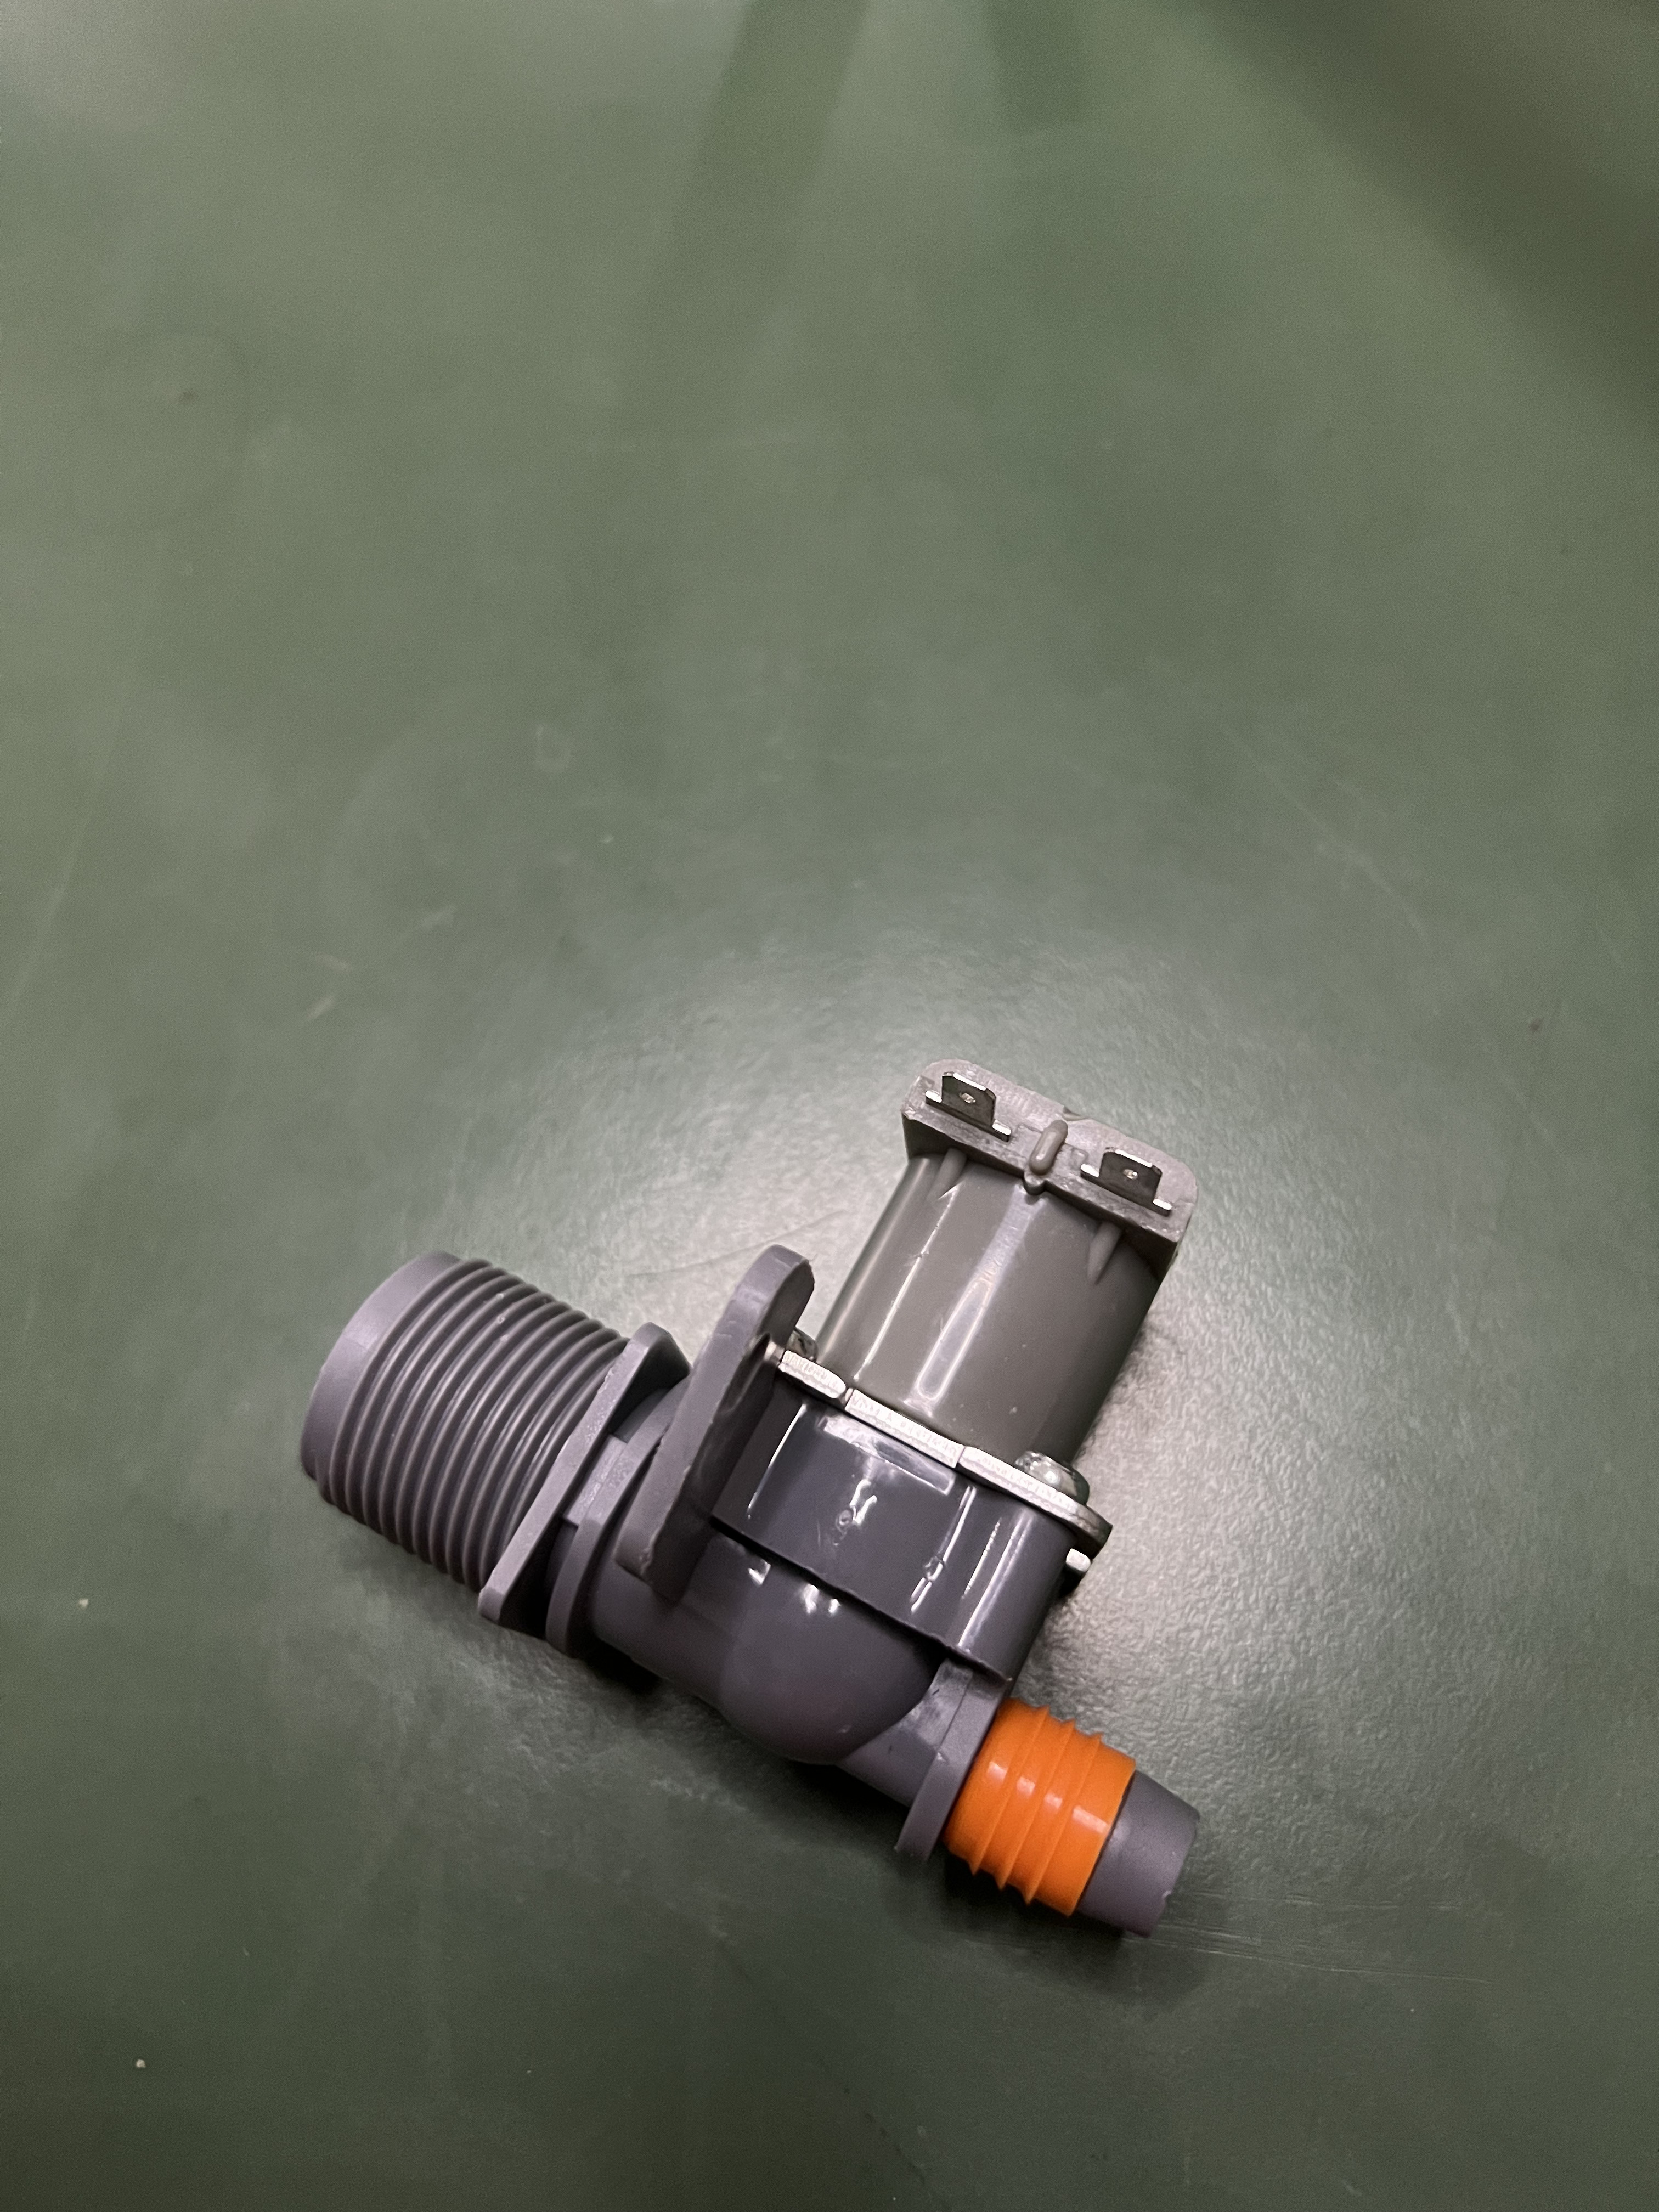inlet_valves: (310, 1035, 1251, 1935)
